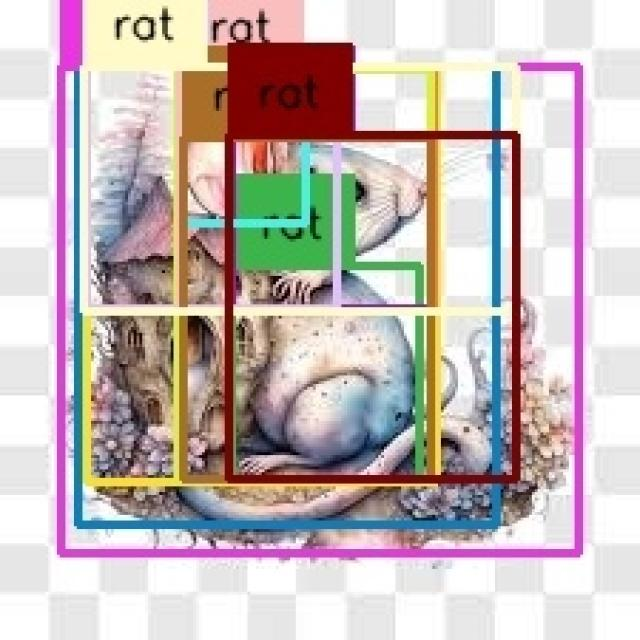rat: (62, 67, 578, 553), (80, 68, 495, 526), (86, 68, 436, 481), (84, 67, 516, 311), (178, 70, 431, 479), (229, 135, 516, 479), (185, 138, 432, 479), (85, 68, 432, 310), (228, 138, 432, 479), (85, 66, 336, 308), (180, 70, 432, 308), (232, 266, 419, 479), (181, 70, 337, 308), (233, 138, 432, 309), (180, 70, 306, 223)
